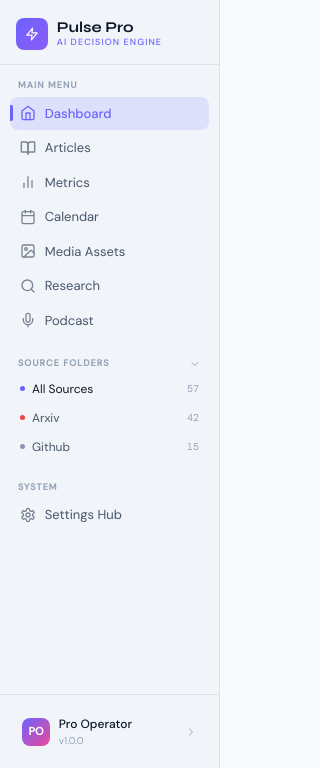
Test: Sidebar › expands/collapses source folders section
The image size is (320, 768).
Expected: the text "arxiv" is shown, [32,410,60,426]
Click the button "Source Folders". click: click(110, 364)
box: [10,357,209,370]
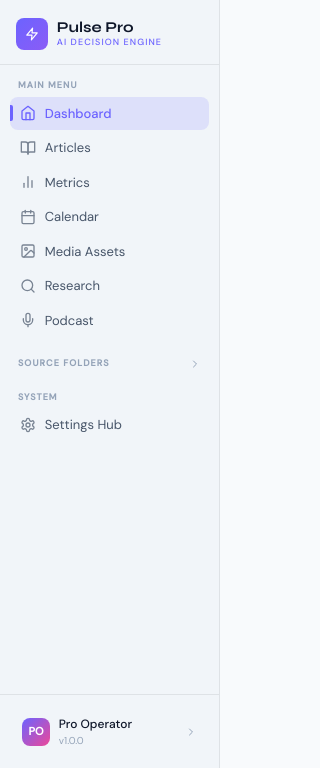
Expected: the button "arxiv" is gone
Click the button "Source Folders". click: click(110, 364)
box: [10,357,209,370]
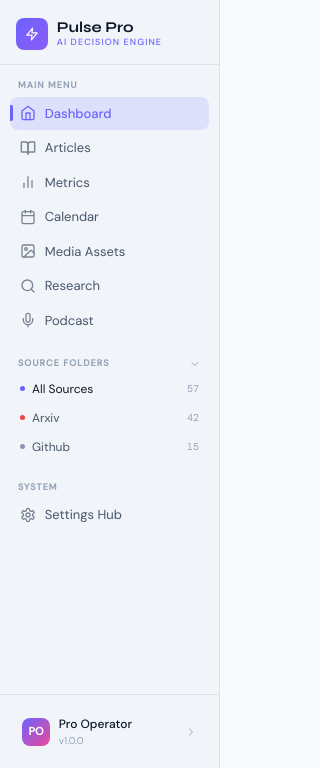
Expected: the text "arxiv" is shown, [32,410,60,426]
